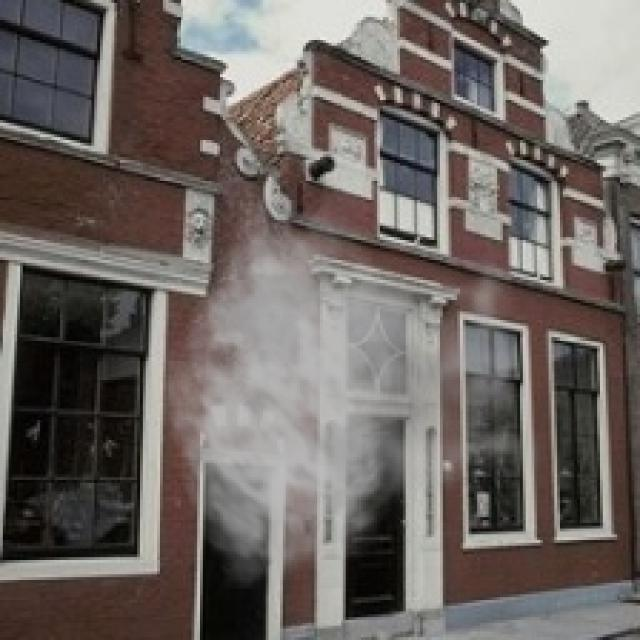Smoke: (163, 188, 552, 588)
